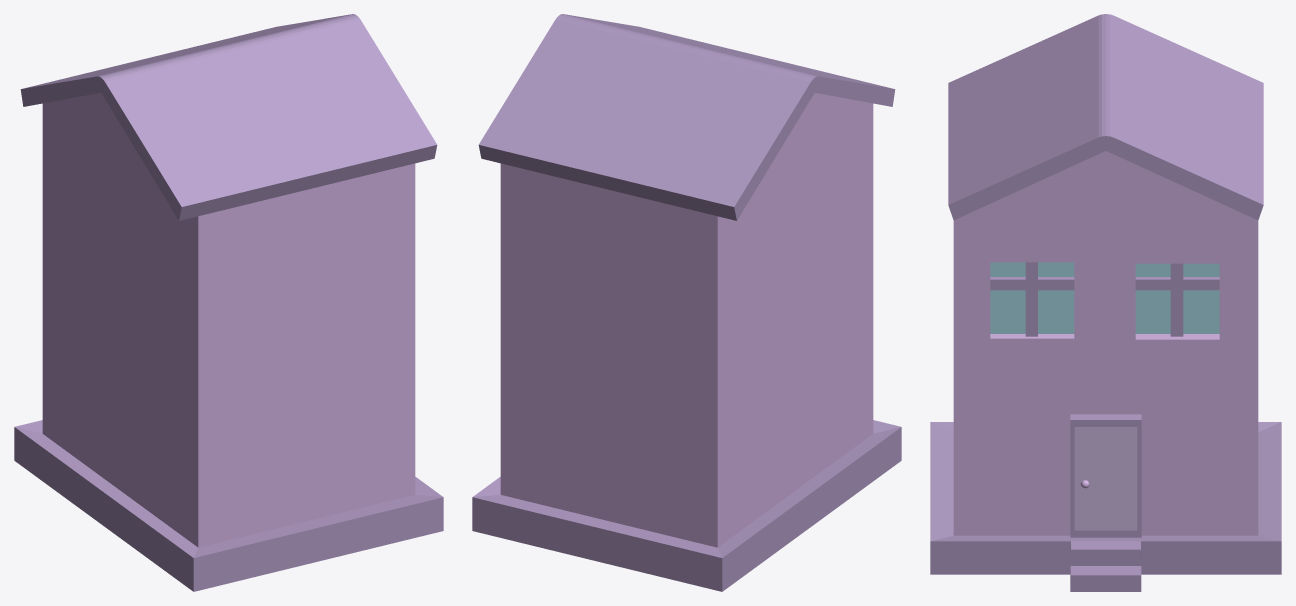
The model's file is pink gumball house.fbx.
The picture shows the model from 3 angles, left to right: view 1: azimuth 30°, elevation 25°; view 2: azimuth 150°, elevation 25°; view 3: azimuth 270°, elevation 25°; orthographic projection. The views are drawn at different scales.
Parts seen in each view (by area): view 1: HouseBase, Roof, HouseBaseFloor; view 2: HouseBase, Roof, HouseBaseFloor; view 3: HouseBase, Roof, HouseBaseFloor, doorparts, windows, window2, door, window2parts, windowsparts.
Part boxes in pixels (x1,y1,x2,y2): HouseBase: (42, 93, 415, 547); Roof: (20, 14, 437, 220); HouseBaseFloor: (14, 420, 443, 591); HouseBase: (500, 93, 873, 547); Roof: (478, 14, 895, 220); HouseBaseFloor: (472, 420, 901, 591); HouseBase: (953, 151, 1258, 535); Roof: (948, 14, 1263, 220); HouseBaseFloor: (930, 422, 1281, 591); doorparts: (1074, 427, 1137, 530); windows: (990, 262, 1074, 333); window2: (1135, 263, 1219, 333); door: (1070, 414, 1141, 537); window2parts: (1135, 263, 1219, 336); windowsparts: (990, 262, 1074, 336).
Size of the model in its own units: 779 by 1156 by 836.
